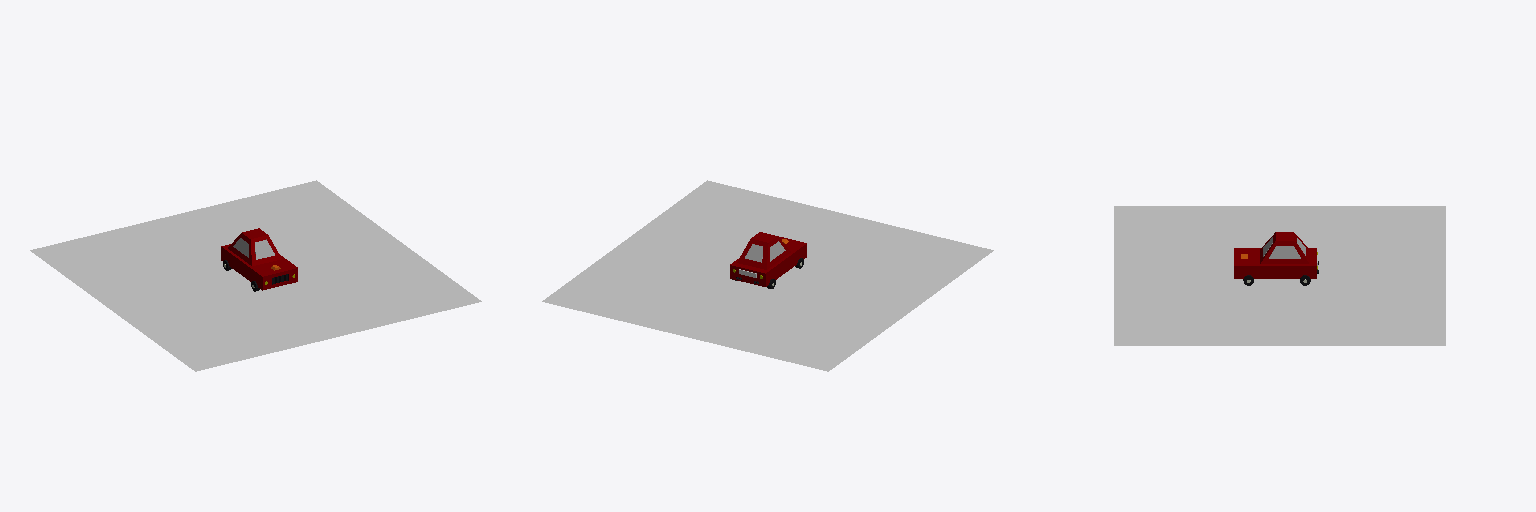
The model's file is Car.obj.
The picture shows the model from 3 angles: view 1: azimuth 30°, elevation 25°; view 2: azimuth 150°, elevation 25°; view 3: azimuth 270°, elevation 25°; orthographic projection.
Visible parts, largest first — view 1: Plane, Cube, Cube.001; view 2: Plane, Cube.001, Cube; view 3: Plane, Cube, Cube.001.
Boxes of the visible parts, x1,y1,x2,y2 form: Plane: [30, 180, 481, 371]; Cube: [221, 244, 297, 290]; Cube.001: [223, 228, 281, 291]; Plane: [542, 180, 993, 371]; Cube.001: [732, 232, 803, 288]; Cube: [730, 236, 806, 286]; Plane: [1114, 206, 1445, 345]; Cube: [1234, 248, 1316, 278]; Cube.001: [1243, 232, 1310, 285].
Size of the model in its own units: 23.98 by 3.21 by 23.98.